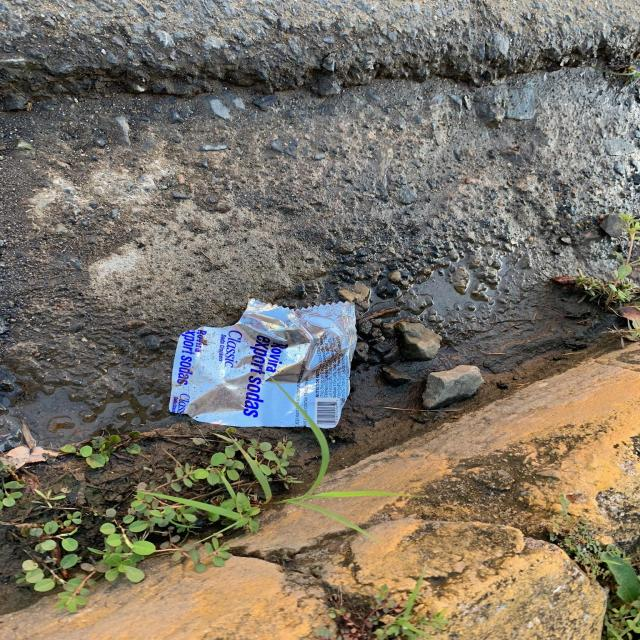litter: (169, 298, 358, 428)
